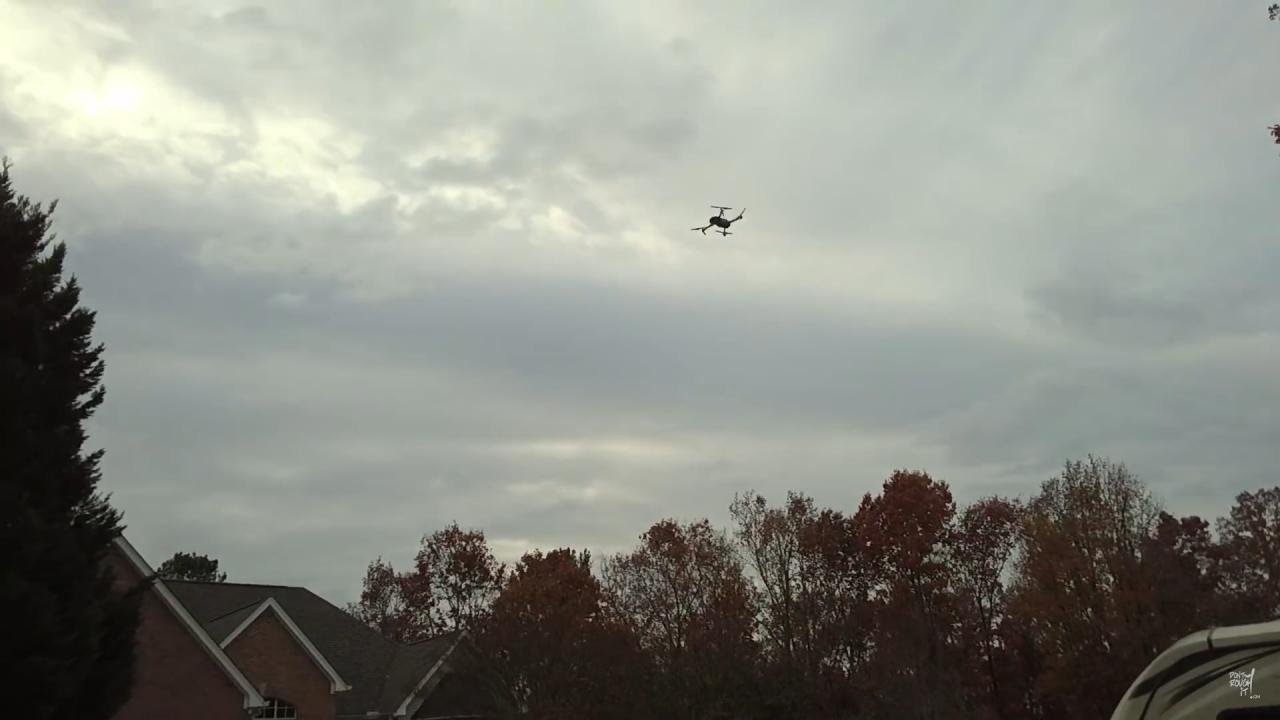Drone: (684, 197, 751, 246)
